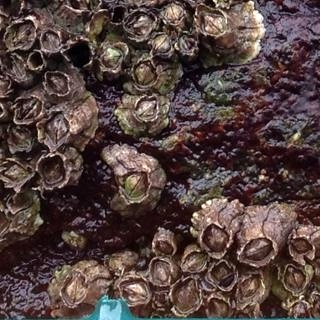Barnacle: (172, 276, 201, 314), (117, 278, 151, 309), (43, 110, 69, 146), (121, 171, 150, 203), (202, 223, 231, 254), (243, 236, 274, 264), (8, 19, 35, 51), (39, 155, 67, 185), (3, 161, 31, 189), (283, 264, 308, 295), (128, 10, 154, 37), (200, 9, 227, 35), (63, 275, 87, 304), (16, 95, 42, 121), (239, 274, 261, 304), (213, 259, 235, 289), (100, 44, 125, 69), (3, 53, 27, 79), (163, 0, 186, 27), (149, 258, 170, 287), (136, 95, 160, 120), (182, 250, 208, 272), (133, 61, 155, 87), (206, 296, 229, 319), (47, 71, 70, 94), (42, 30, 63, 52), (290, 236, 314, 255), (152, 32, 171, 56), (179, 34, 197, 53), (154, 239, 174, 254)
